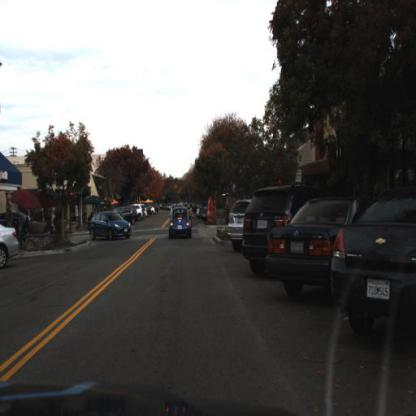car: (334, 188, 416, 369), (265, 194, 385, 299), (241, 184, 276, 273), (87, 210, 134, 244), (166, 205, 196, 247), (1, 225, 20, 272), (1, 210, 35, 236), (116, 204, 139, 224)
pedestrian: (190, 205, 195, 230), (185, 203, 190, 219)
